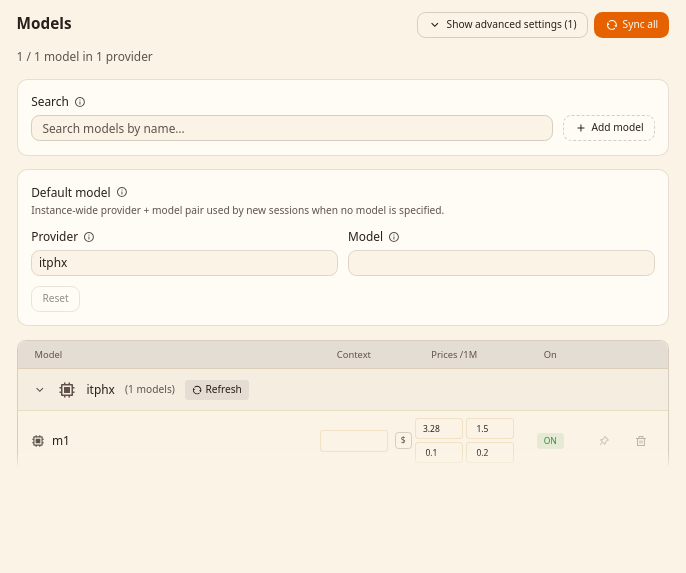
Scenario: ModelsPanel: базовые элементы (поиск, добавление) и один скролл › раскрытие дополнительных настроек открывает фильтры списка
The image size is (686, 573).
Click the button with test id "settings-advanced-reveal": (502, 25) [417, 12, 588, 38]
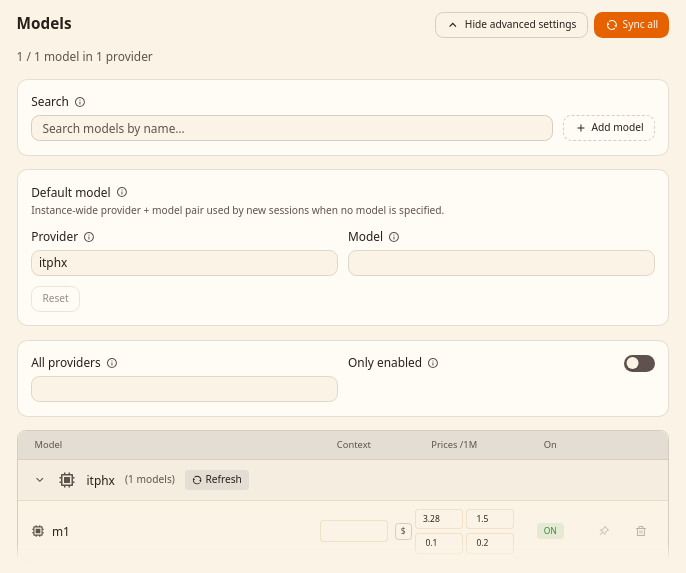
Expected: the element showing "All providers Only enabled" is shown, [17, 340, 669, 416]
